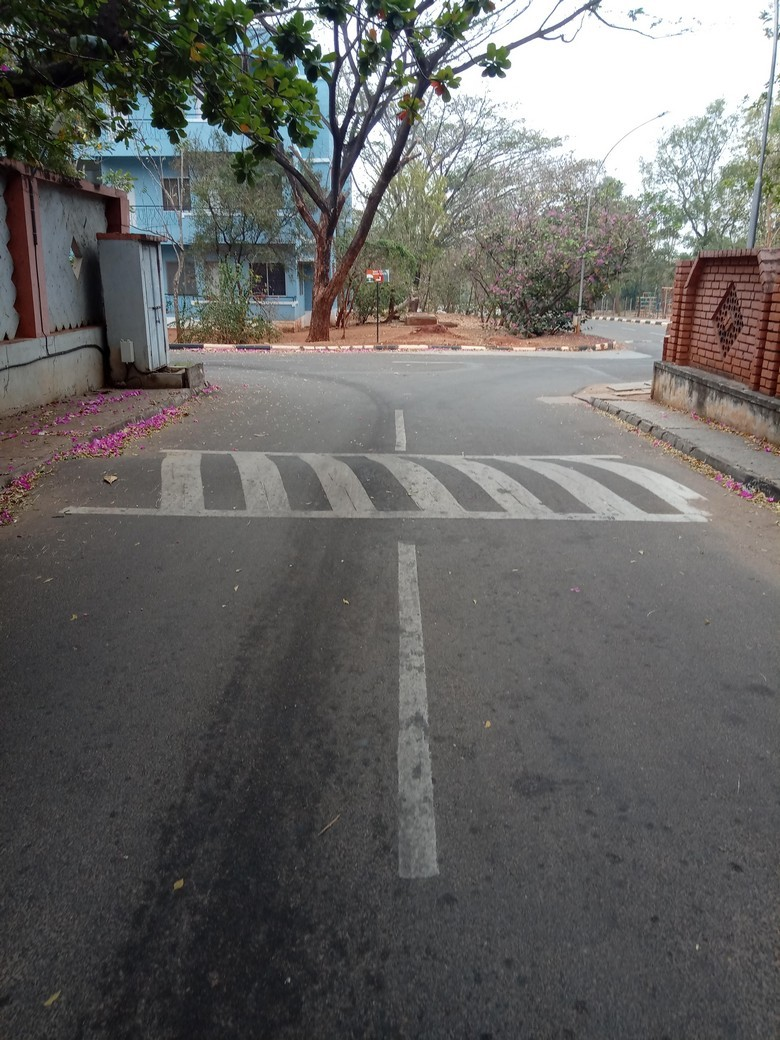bump: (29, 445, 716, 527)
